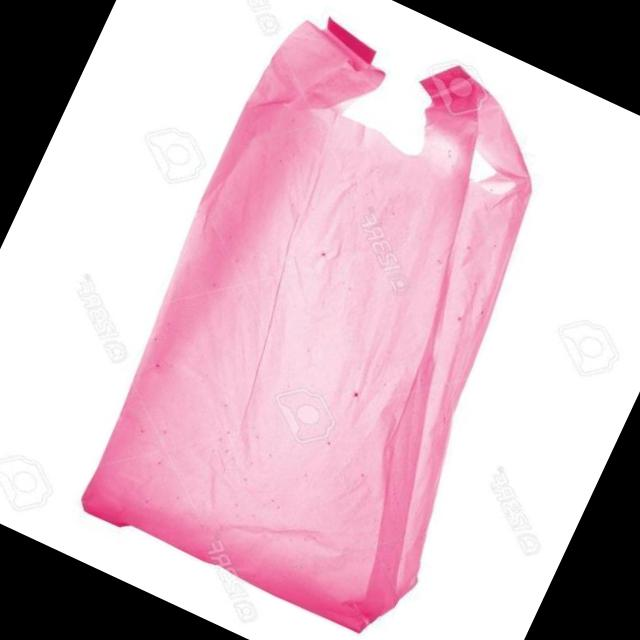KantongPlastik: (57, 0, 624, 640)
